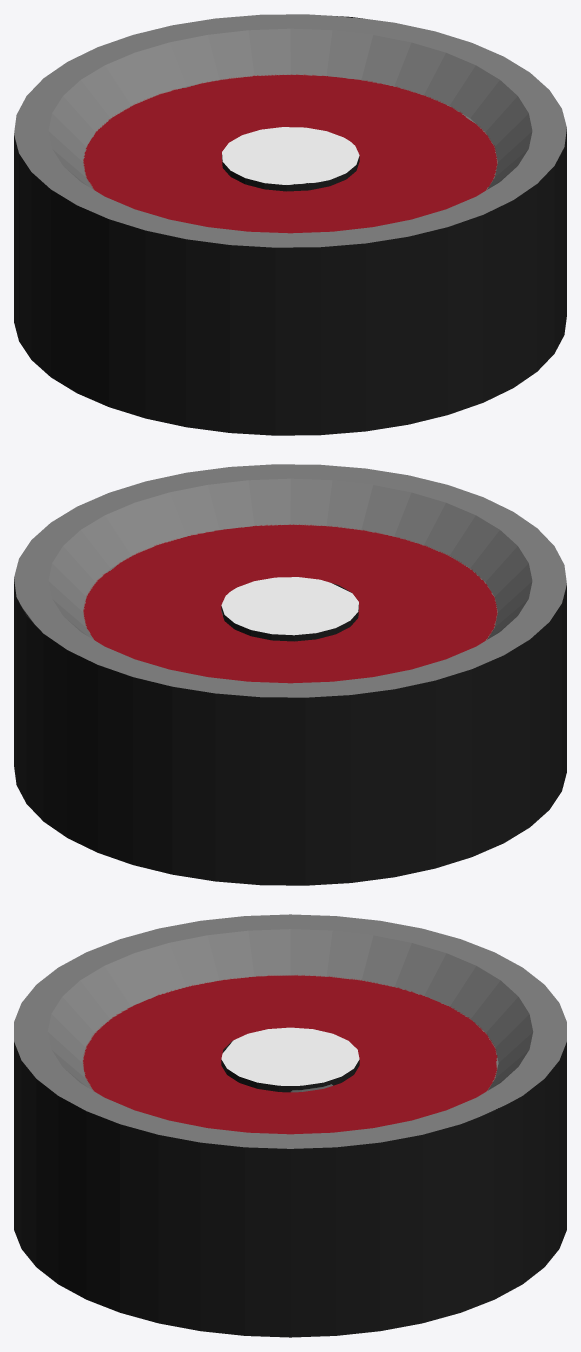
Rendered from right_rear_wheel.dae.
3 views of the same model, one above another, from view 1: azimuth 30°, elevation 25°; view 2: azimuth 150°, elevation 25°; view 3: azimuth 270°, elevation 25° (orthographic).
Visible parts, largest first — view 1: right_rear_wheel; view 2: right_rear_wheel; view 3: right_rear_wheel.
Part boxes in pixels (<box>): right_rear_wheel: <box>14,14,566,435</box>; right_rear_wheel: <box>14,464,566,885</box>; right_rear_wheel: <box>14,914,566,1337</box>.
Size of the model in its own units: 0.2032 by 0.2025 by 0.0762.
Materials: 1 (1 with a texture image).
